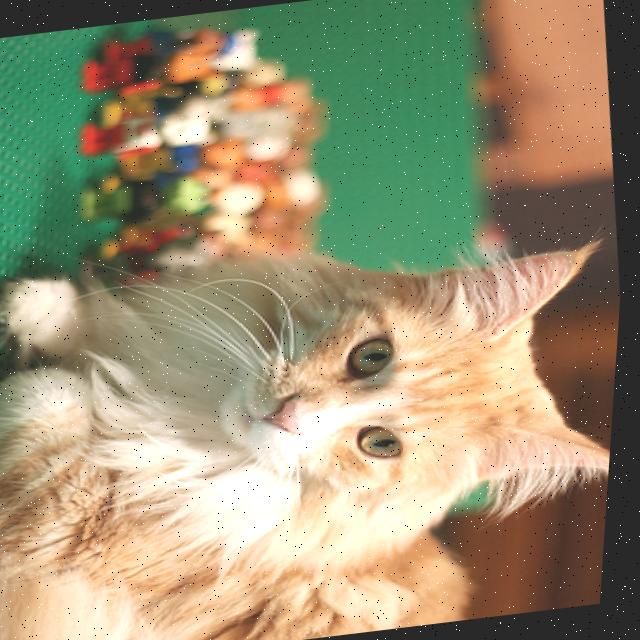Maine Coon: (0, 203, 629, 640)
